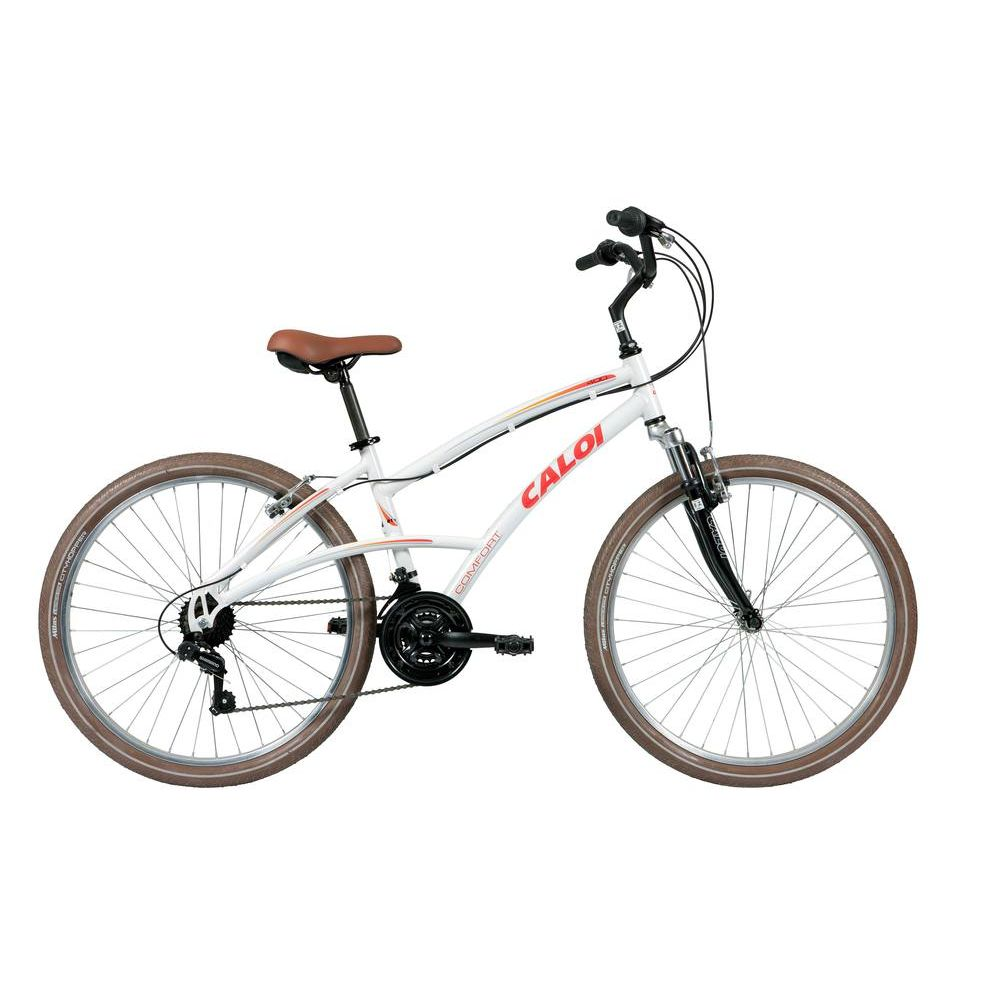RoadBike: (97, 184, 881, 828)
